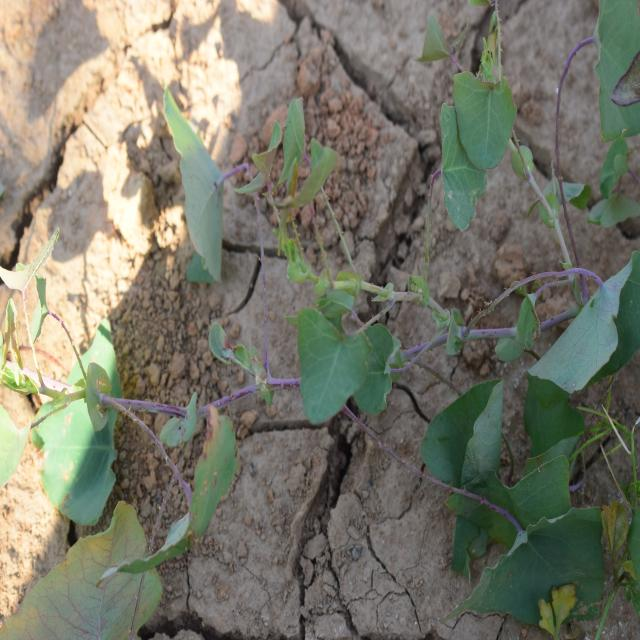Asiatic_Smartweed: (432, 278, 609, 640), (9, 262, 225, 553), (250, 80, 419, 441), (416, 24, 567, 254), (157, 88, 251, 318)
